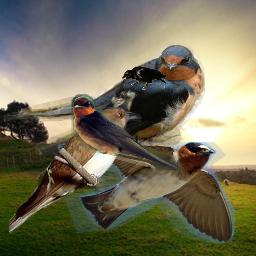Crow: (121, 66, 166, 90)
Cuckoo: (9, 106, 142, 234)
Swallow: (4, 43, 205, 155), (58, 142, 235, 243), (71, 94, 178, 170)
